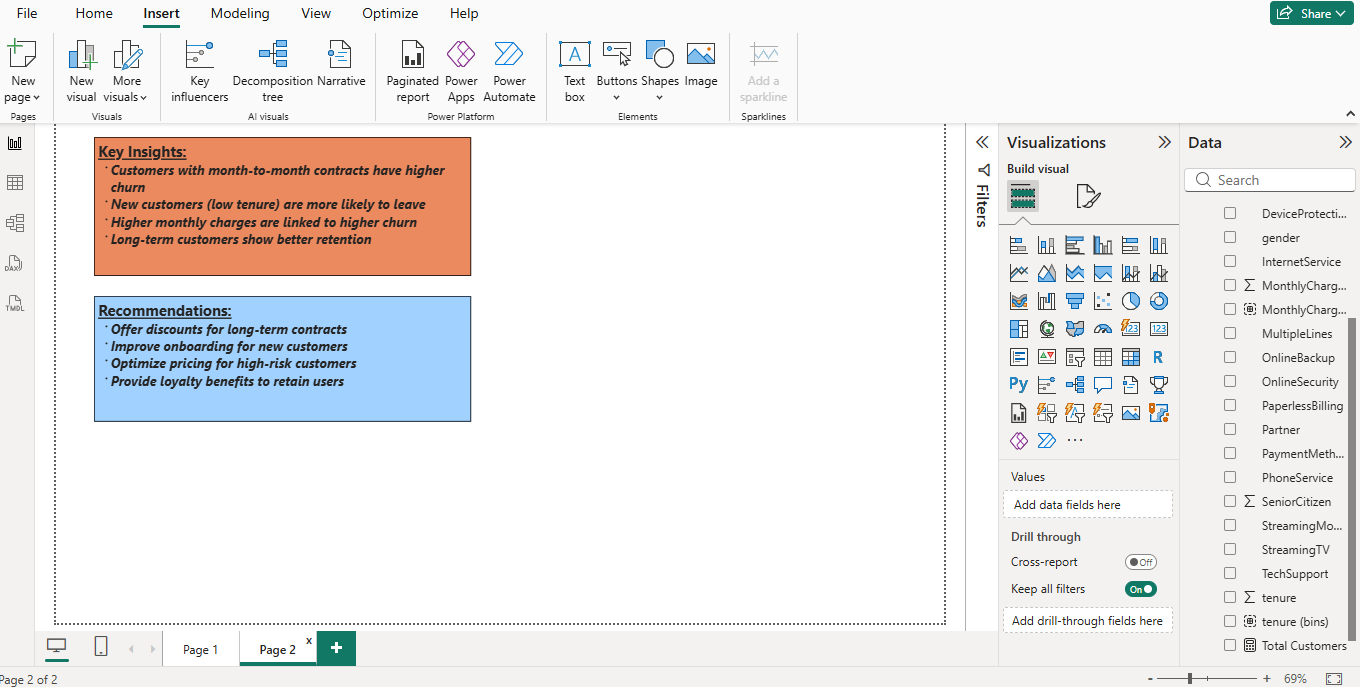

This screenshot's page, from the dashboard's own definition file:
{"tool":"powerbi","page":{"name":"Page 2","canvas":[1280,720],"ordinal":1},"visuals":[{"type":"textbox","box":[10,0,280,280],"z":0},{"type":"textbox","box":[10,290,280,280],"z":1},{"type":"textbox","box":[20,10,280,280],"z":2},{"type":"textbox","box":[30,20,280,280],"z":3},{"type":"textbox","box":[55.4,20.2,542.6,199.9],"z":4},{"type":"textbox","box":[55.4,248.6,542.6,181.4],"z":6}]}

Visuals, with their boxes on the page's 1280x720 design canvas (x1, y1, x2, y2). These are canvas units, not pixel positions in the 1360x687 screenshot, which may show the page scaled, cropped or inside an application window:
textbox: (10, 0, 290, 280)
textbox: (10, 290, 290, 570)
textbox: (20, 10, 300, 290)
textbox: (30, 20, 310, 300)
textbox: (55, 20, 598, 220)
textbox: (55, 249, 598, 430)
